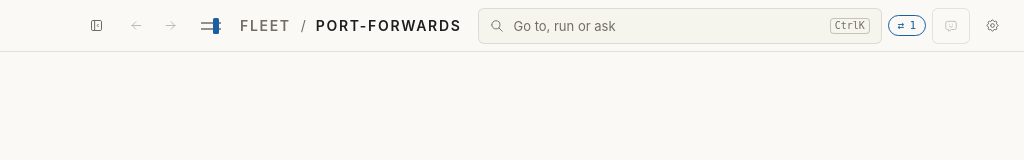
location bar forwards utility › clicking a row navigates to the forwards section and closes the panel
Click the button with test id "forwards-chip": click(907, 26) [888,15,926,36]
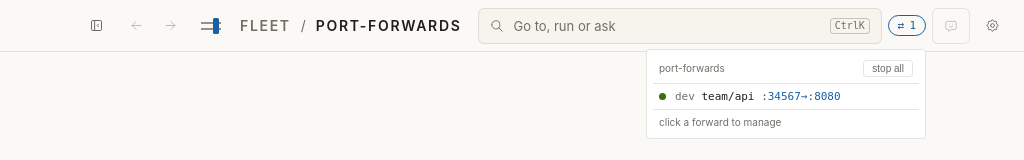
Click the button "dev team/api :34567→:8080": click(786, 97) [653,84,919,110]
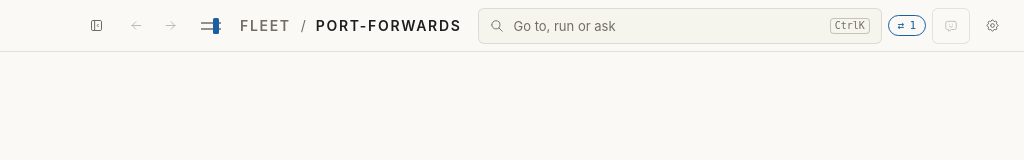
Expected: the element with test id "forwards-panel" is gone
